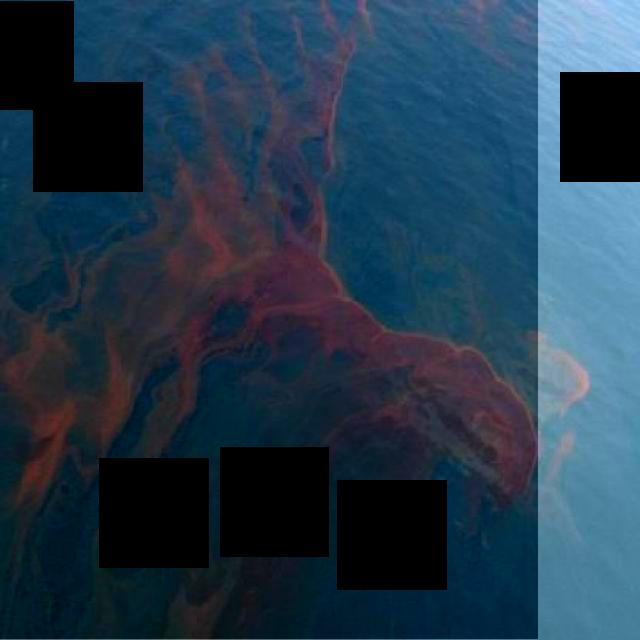oil spill: (0, 0, 538, 639)
